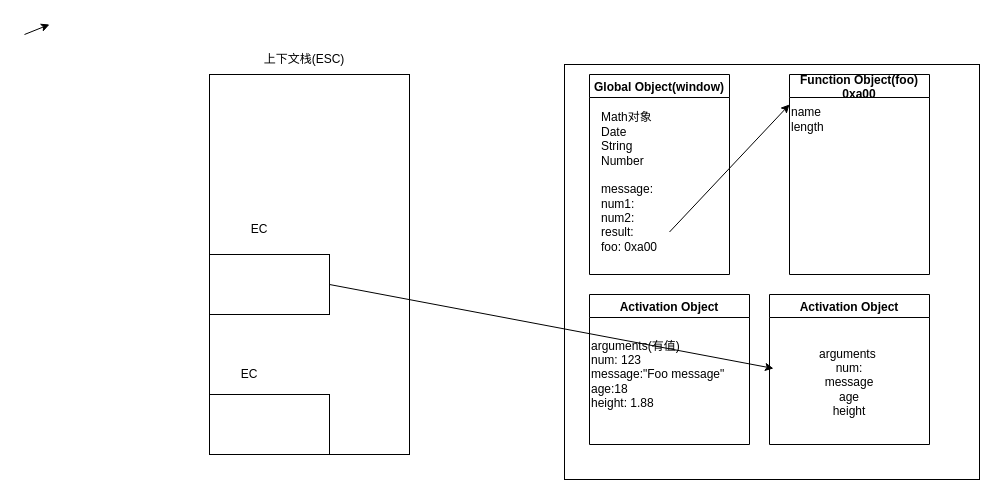
Image size: 997x497. Some labels were removed from this diagram. Here are the shapes that lost their labels. From the top down, the centre of each, then its label:
the point at 269,284: VO:AO
the point at 269,424: VO:GO scope chain this
